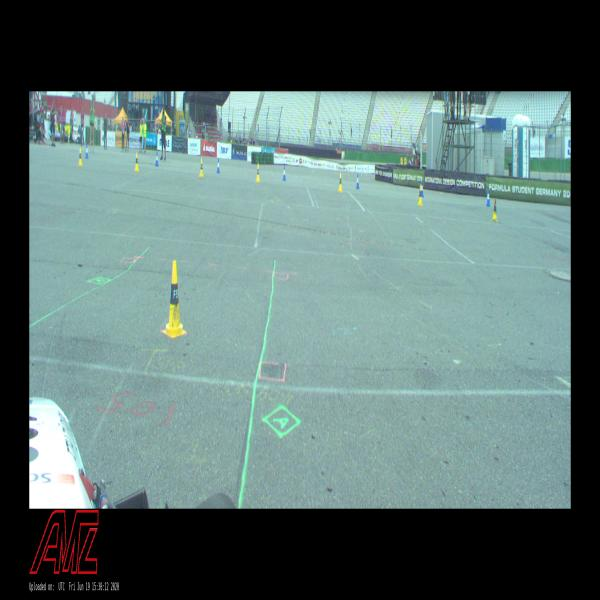blue_cone: (486, 189, 490, 206), (282, 166, 286, 181), (155, 152, 159, 166), (85, 145, 89, 158), (356, 174, 359, 189), (421, 182, 424, 197), (217, 159, 220, 173)
yellow_cone: (164, 261, 185, 336), (492, 199, 497, 220), (199, 158, 204, 177), (338, 173, 343, 192), (256, 163, 260, 182), (418, 186, 422, 205), (78, 148, 82, 166), (135, 153, 139, 170)
